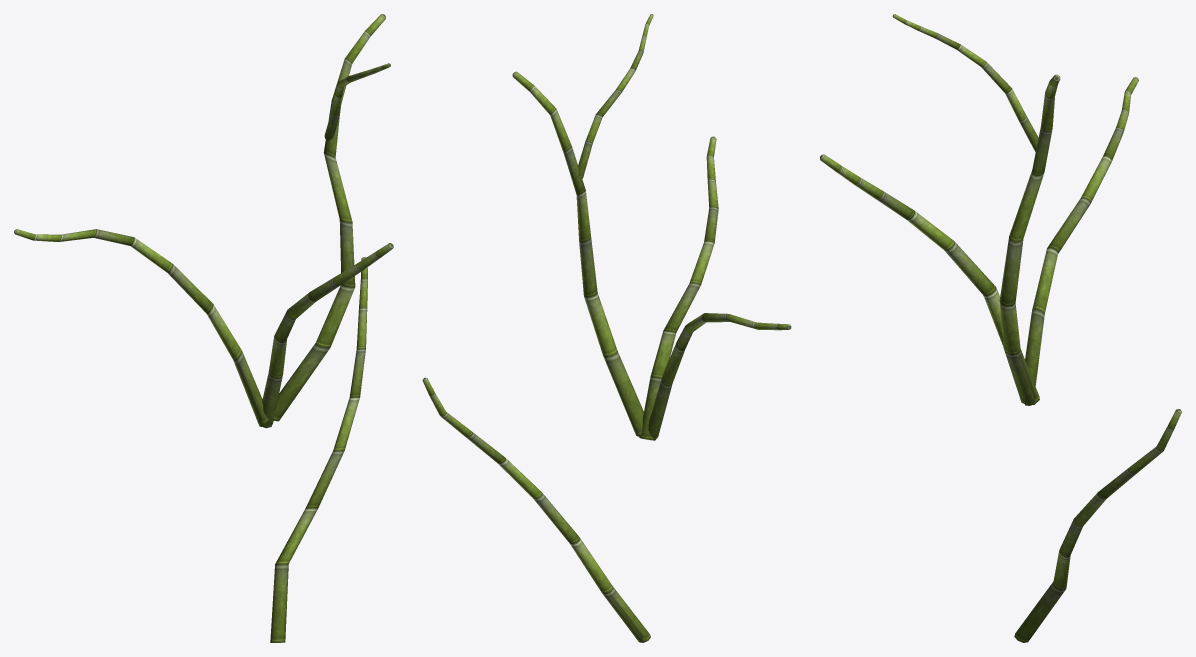
The model's file is BambooSet_part_36.fbx.
3 renders of one model, left to right at view 1: azimuth 30°, elevation 25°; view 2: azimuth 150°, elevation 25°; view 3: azimuth 270°, elevation 25°, orthographic. The views are drawn at different scales.
Visible parts, largest first — view 1: Object_62.001; view 2: Object_62.001; view 3: Object_62.001.
Part boxes in pixels (box(x1,y1,x2,y2)): Object_62.001: box(14, 14, 393, 642); Object_62.001: box(422, 14, 791, 642); Object_62.001: box(820, 14, 1181, 642).
Size of the model in its own units: 672 by 1056 by 530.
